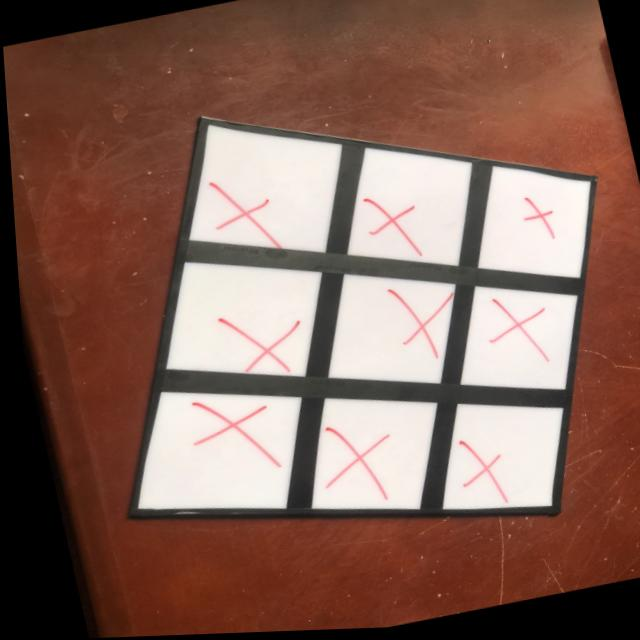table: (122, 114, 608, 585)
x: (184, 392, 275, 477), (317, 418, 395, 509), (201, 187, 287, 247), (482, 292, 547, 371), (376, 286, 445, 360), (447, 438, 514, 512), (216, 322, 296, 376), (363, 197, 417, 265), (508, 200, 561, 244)
